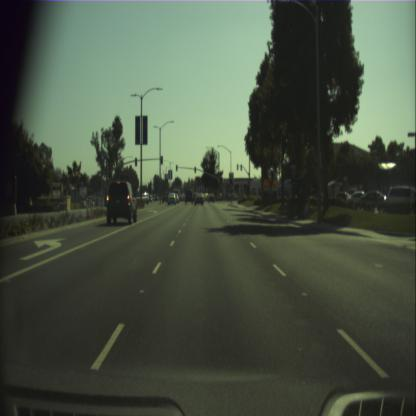off: (176, 164, 178, 171), (194, 166, 196, 172)
